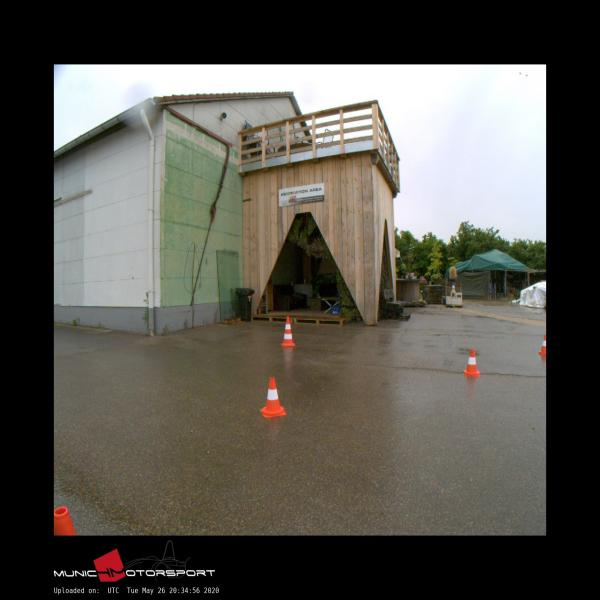large_orange_cone: (280, 316, 294, 346)
orange_cone: (260, 377, 286, 417), (463, 348, 480, 376), (539, 334, 546, 354)
